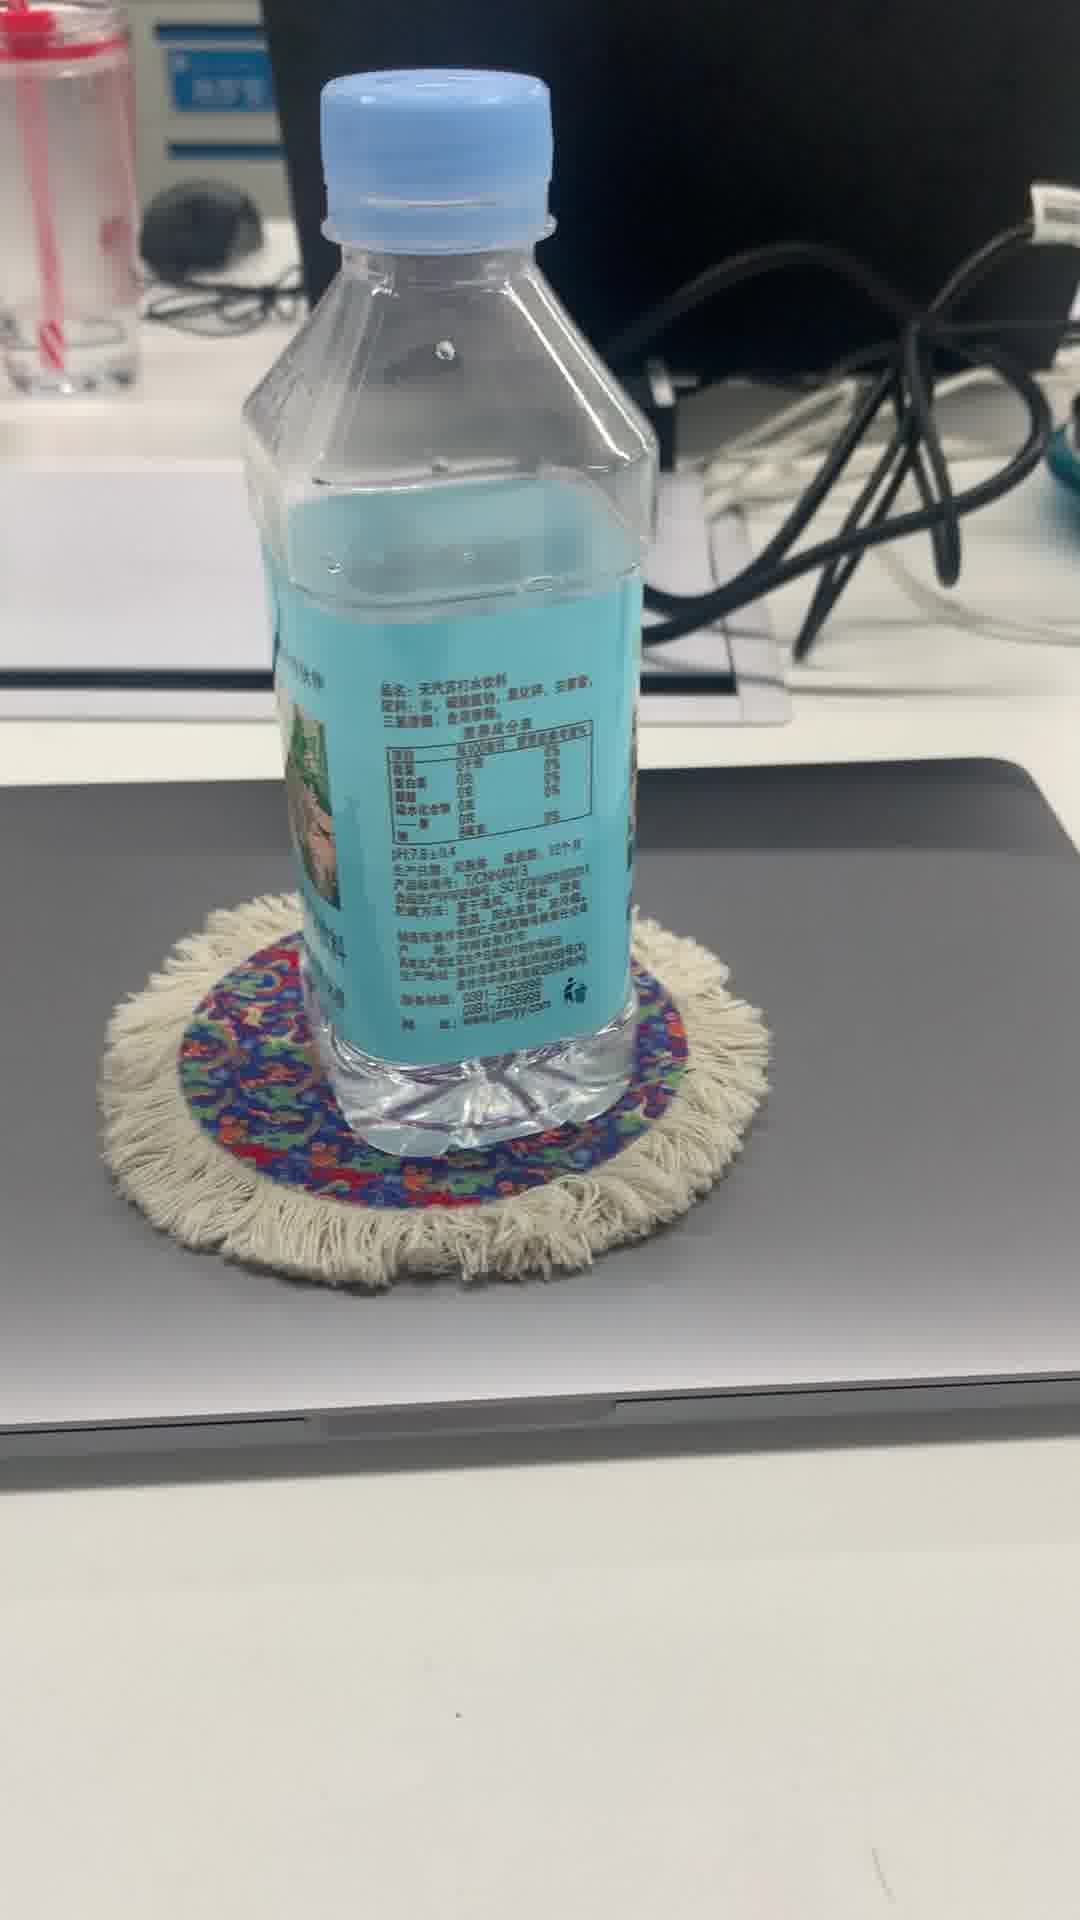水瓶: (227, 51, 654, 1156)
